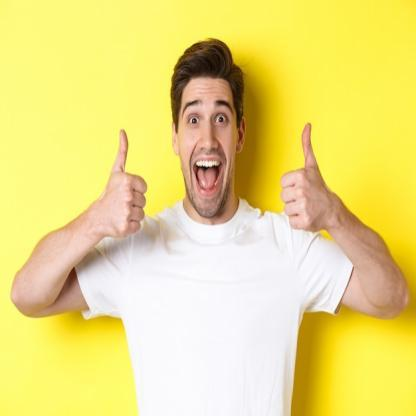stop: (100, 126, 148, 240)
